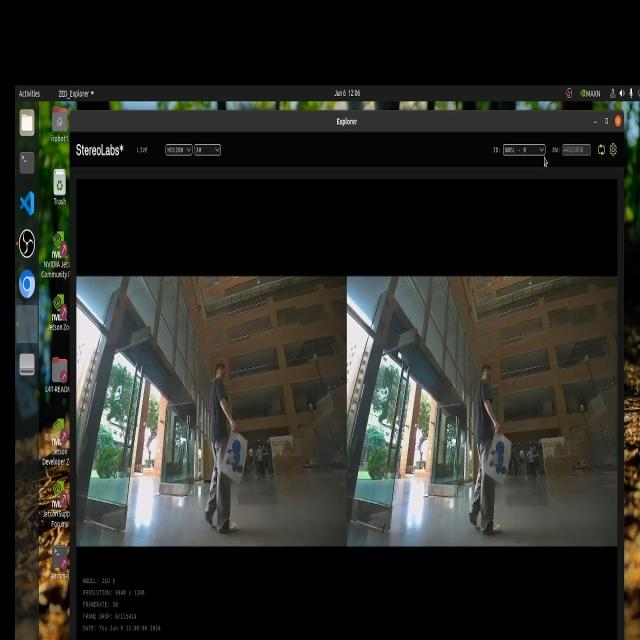blue: (230, 436, 251, 482), (486, 438, 504, 479)
